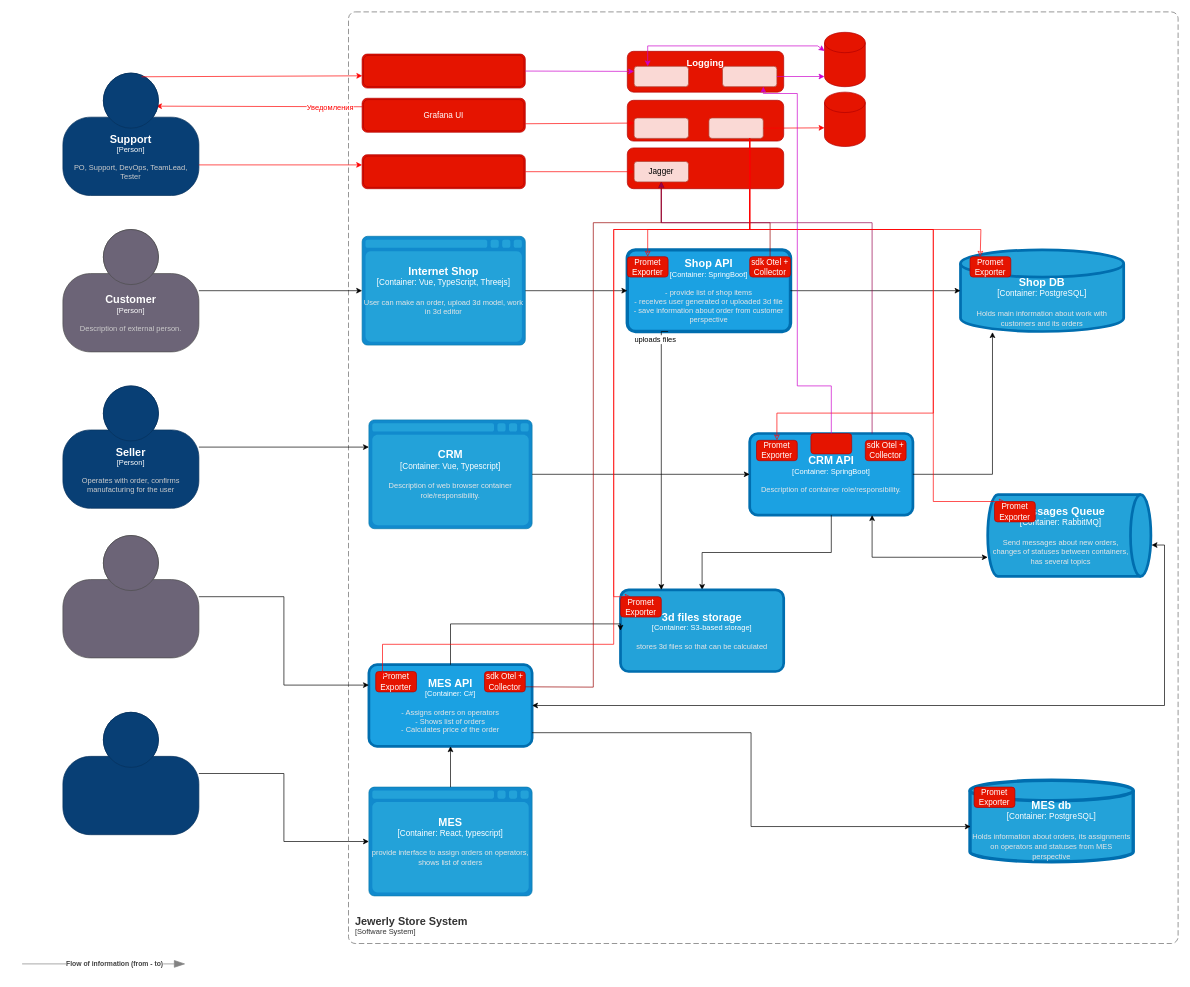
The diagram is 1190 pixels wide and 987 high, and some of its shapes have lost their labels. Each missing label, with the box of its shape:
API user [Person] Description of external person.: (62, 535, 199, 658)
Elastic Search: (824, 32, 865, 87)
FileBeat: (810, 433, 852, 454)
Grafana: (633, 117, 688, 138)
Jagger UI: (361, 154, 525, 189)
Kibana: (633, 66, 688, 87)
Kibana UI: (361, 53, 525, 88)
Logstash: (722, 66, 777, 87)
Monitoring: (627, 100, 784, 141)
Operator [Person] Takes order in work, manufactures jewerly: (62, 712, 199, 835)
Prometheus: (708, 117, 763, 138)
TDSM: (824, 91, 865, 147)
Tracing: (627, 147, 784, 189)
